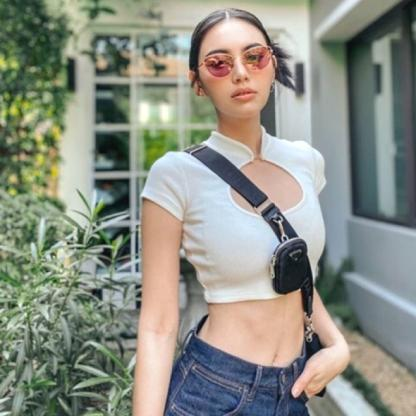jacket: (140, 128, 333, 304)
jean: (125, 3, 352, 416)
